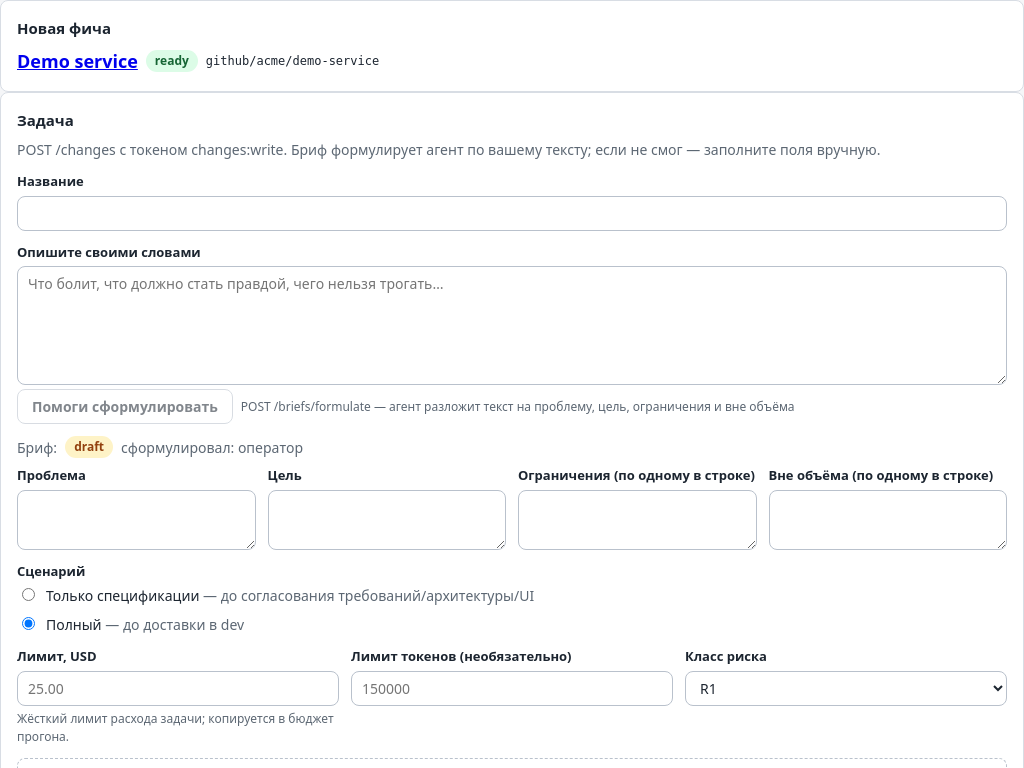
Test: IntakePage › rejects a non-positive limit before sending anything
Expected: the element with test id "intake-product-header" is shown, 17,48 -> 379,72
Type "X" into the field labelled "Название" at (512, 213), box 17,196 -> 1007,230
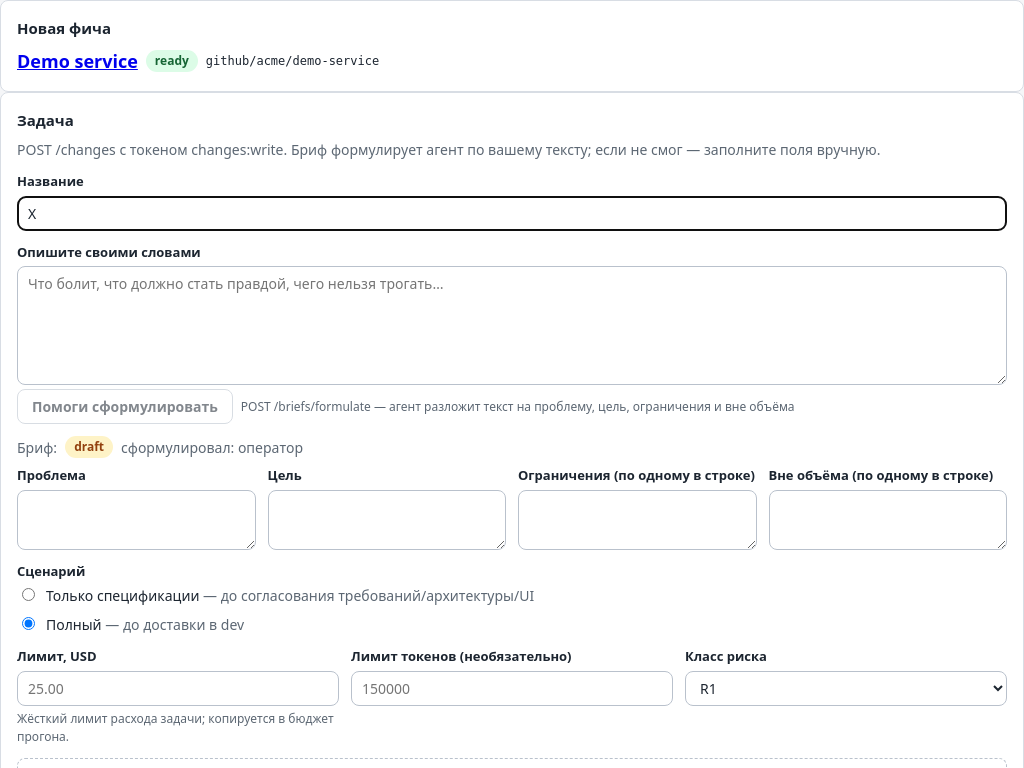
Type "0" into the field labelled "Лимит, USD" at (178, 688), box 17,670 -> 339,706
(page scrolled)
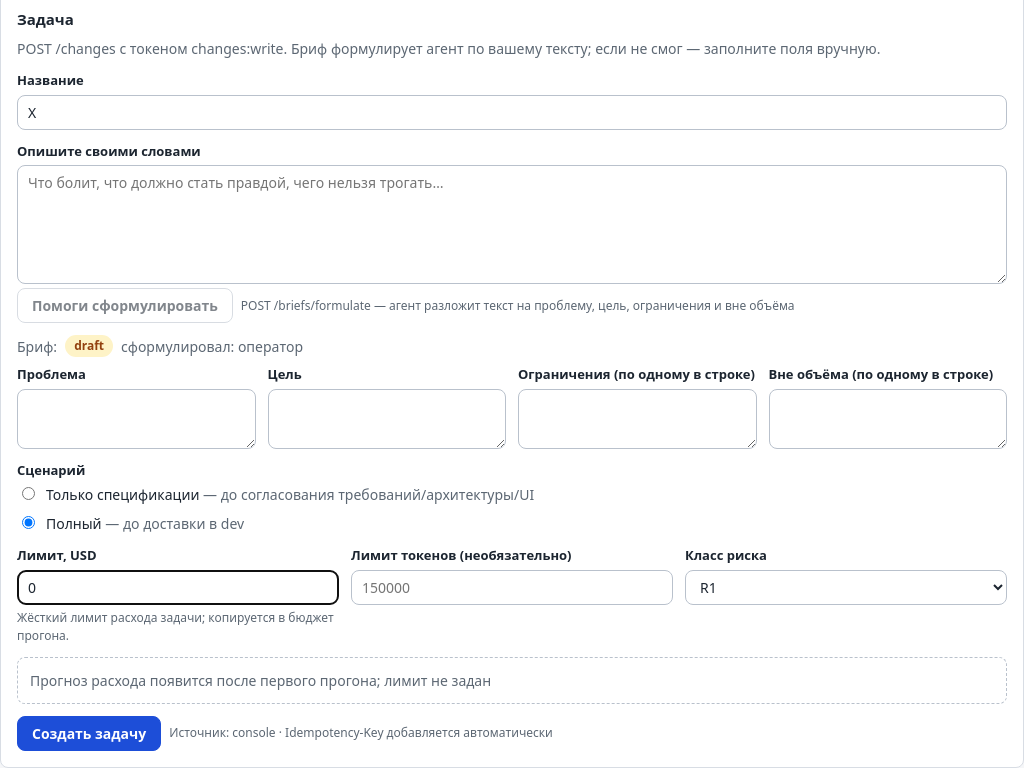
Click the button "Создать задачу" at (89, 733), box 17,716 -> 161,750
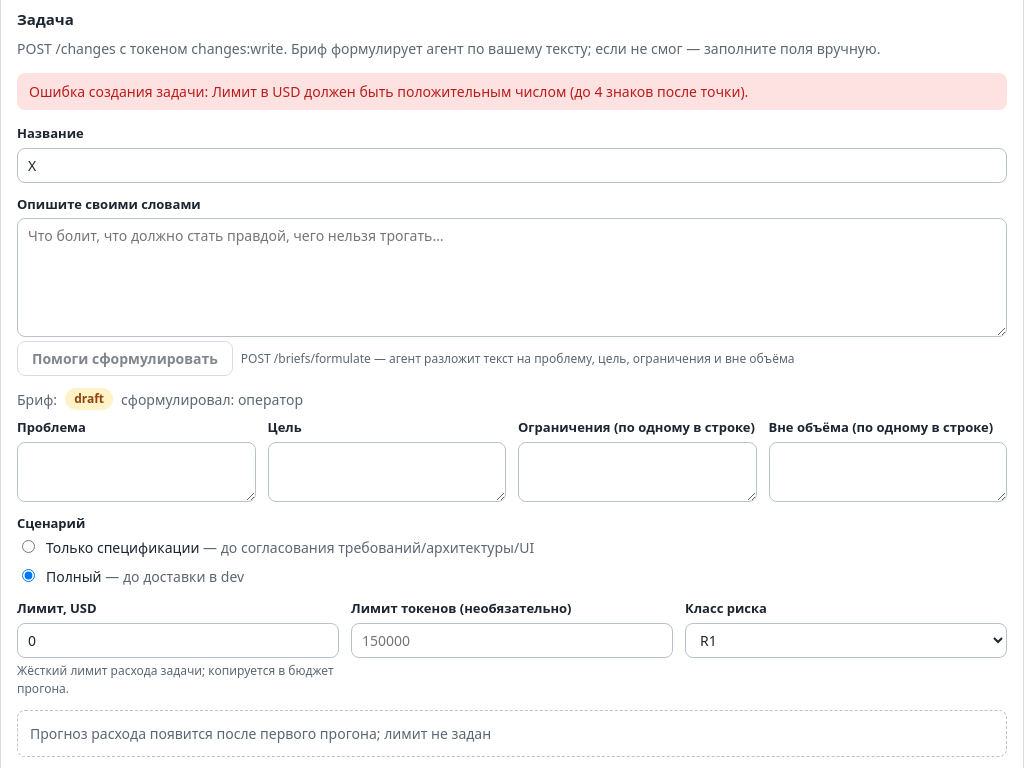
Expected: the message shows "Лимит в USD должен быть положительным числом", 212,82 -> 748,101
